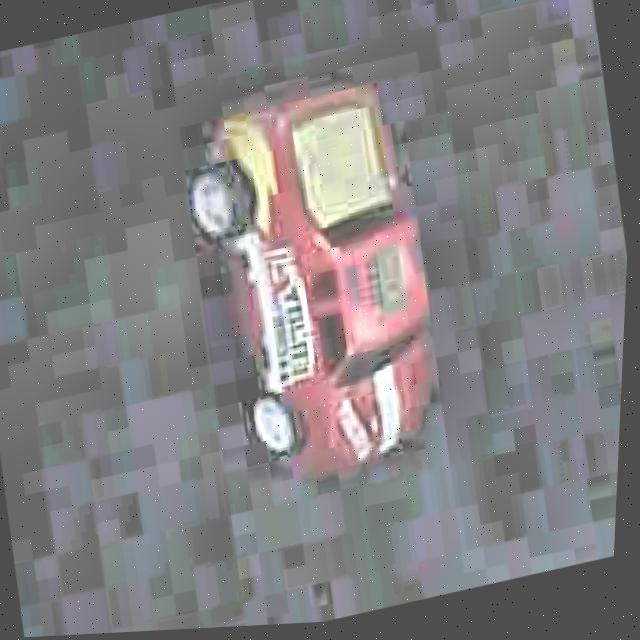car: (150, 58, 474, 511)
